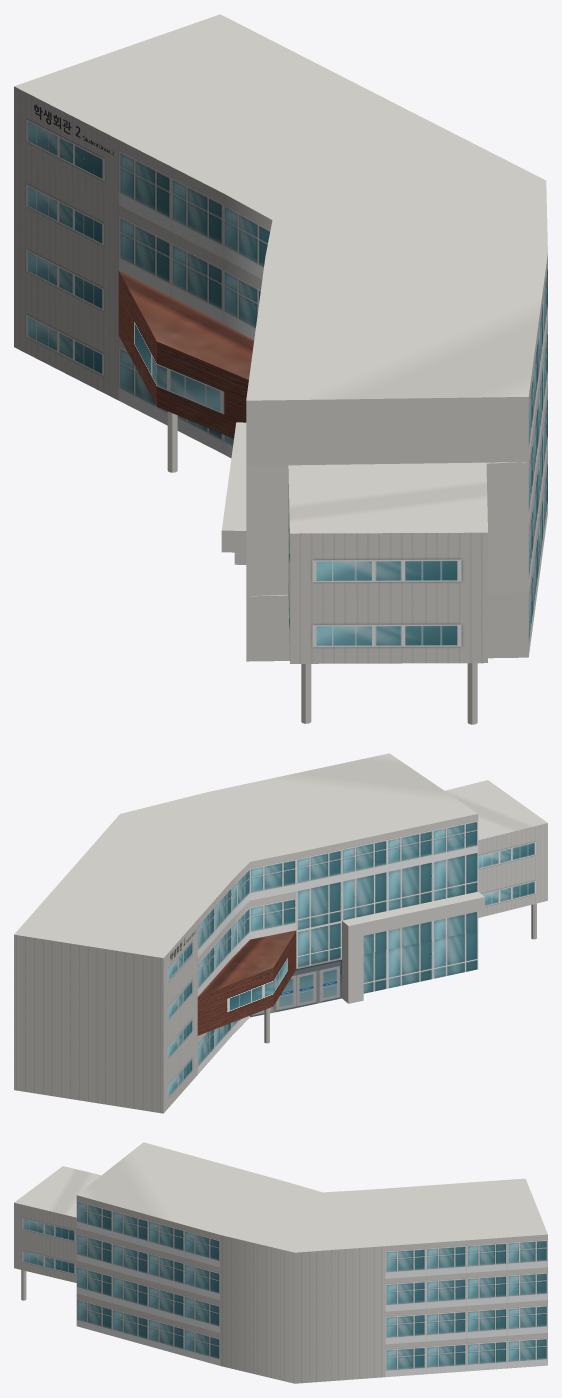
Rendered from building_studentunion2.fbx.
3 renders of one model, top to bottom at view 1: azimuth 30°, elevation 25°; view 2: azimuth 150°, elevation 25°; view 3: azimuth 270°, elevation 25°, orthographic. The views are drawn at different scales.
Parts seen in each view (by area): view 1: building_studentunion2; view 2: building_studentunion2; view 3: building_studentunion2.
Boxes of the visible parts, <box> form: building_studentunion2: <box>14,14,547,724</box>; building_studentunion2: <box>14,753,547,1113</box>; building_studentunion2: <box>14,1142,547,1383</box>.
Size of the model in its own units: 2.96 by 1.51 by 5.59.
1 material, 1 textured.
